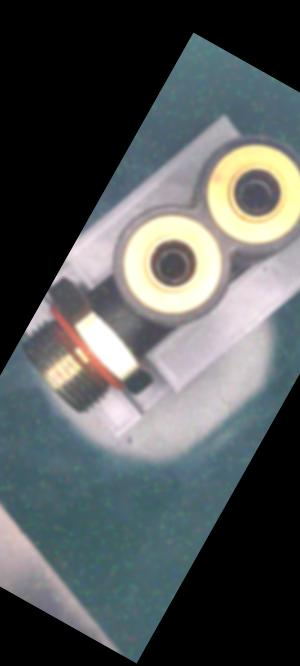craze: (105, 313, 120, 328)
